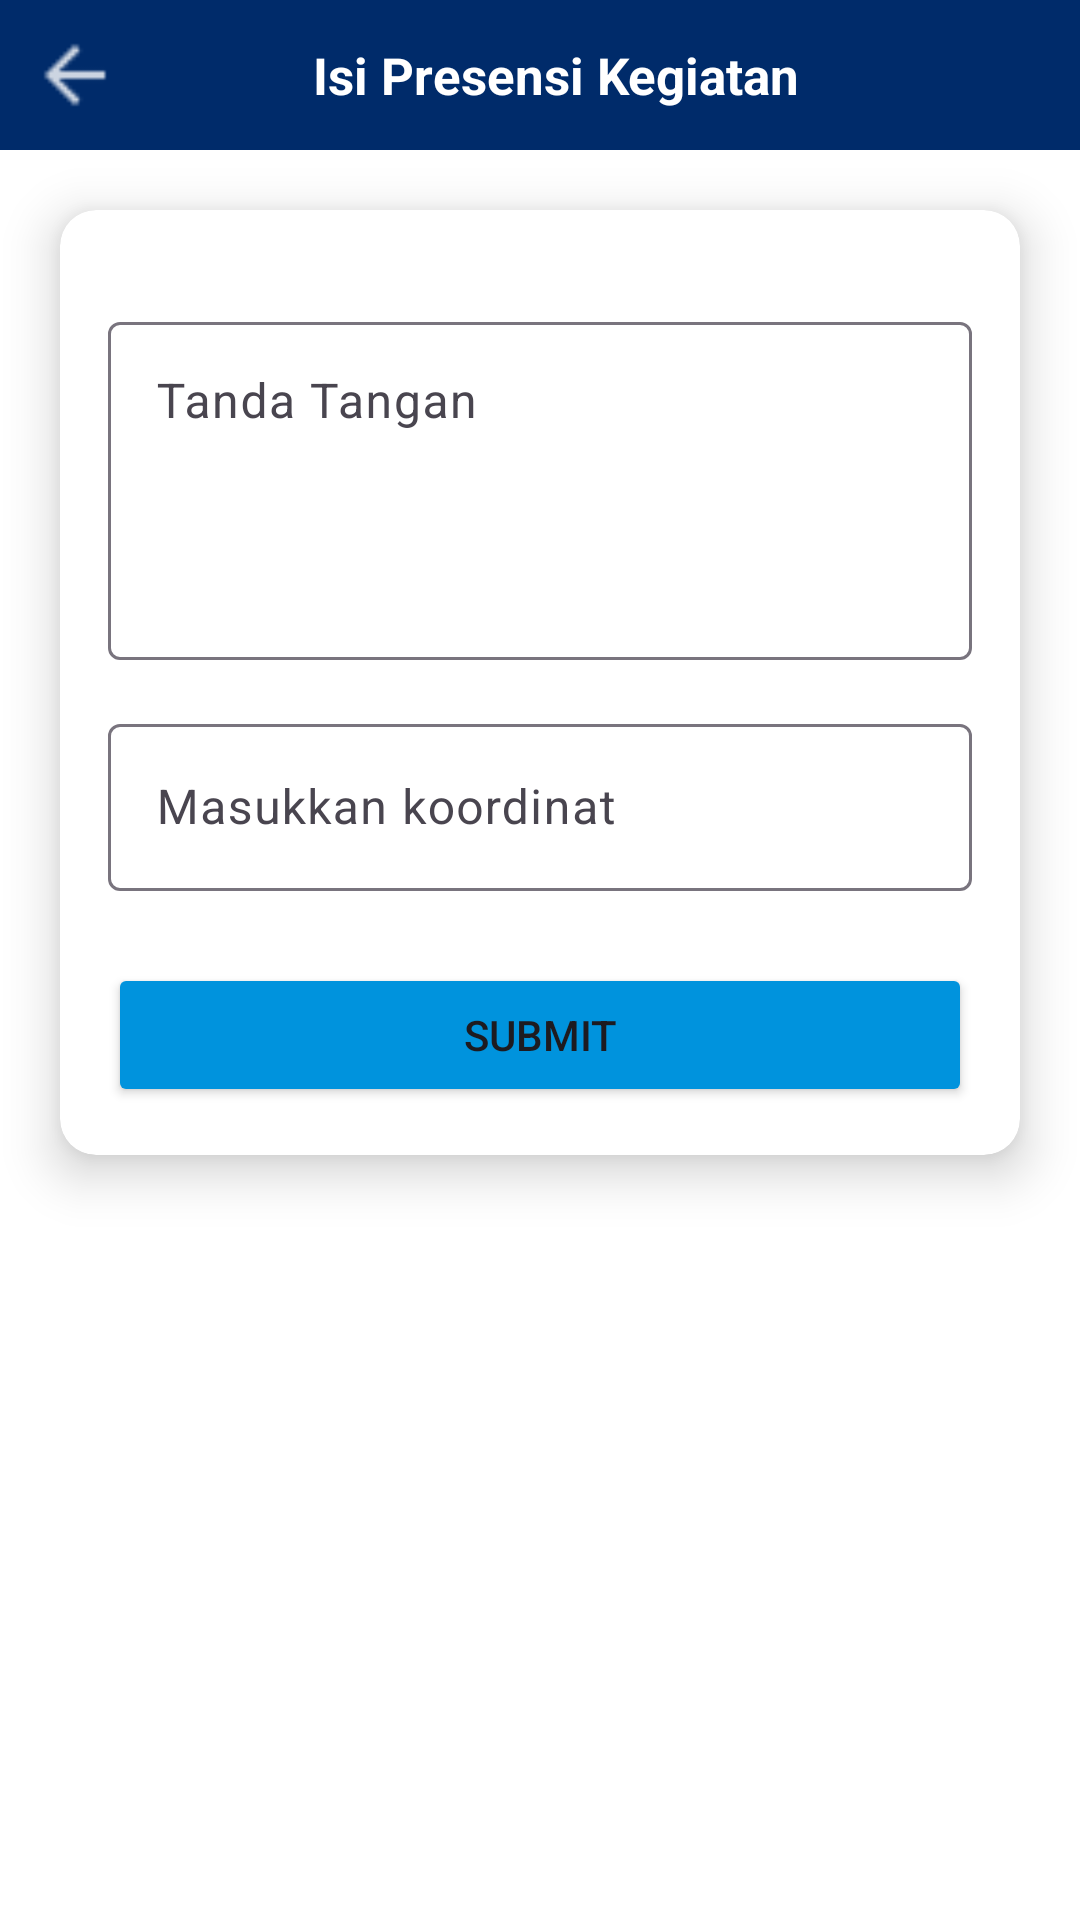

Icon bounding boxes for this 1080 x 1920 phone screenshot, format (x1, y1, x2, y2):
back: (44, 44, 106, 106)
